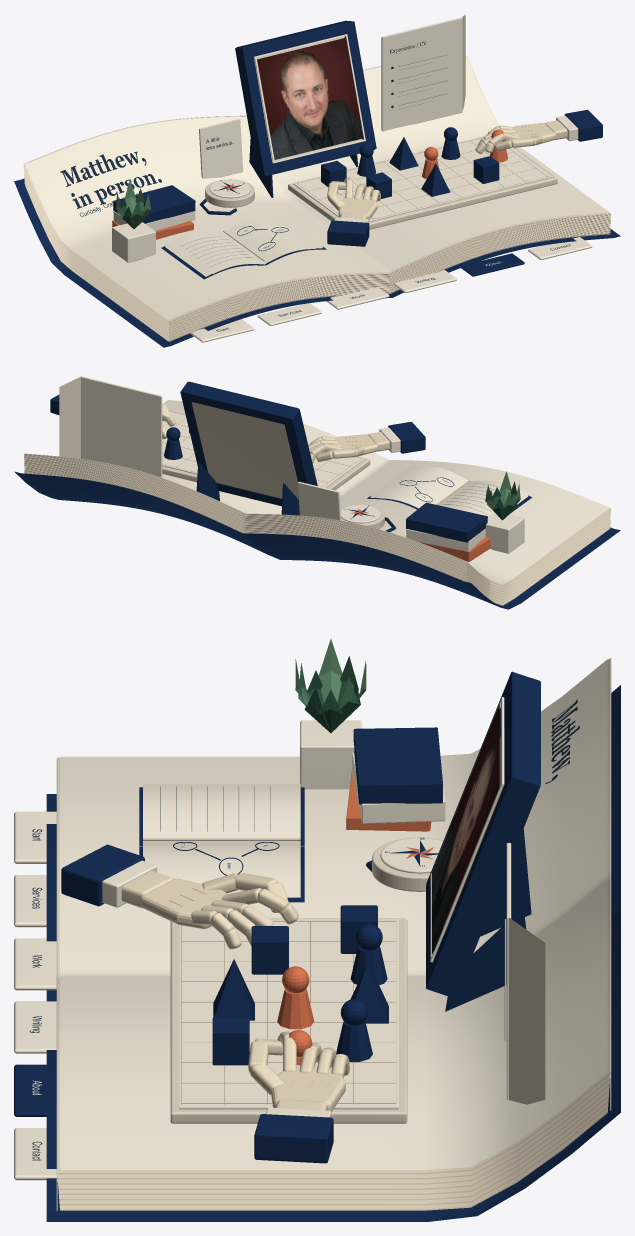
Rendered from about-geometry.glb.
3 views of the same model, one above another, from view 1: azimuth 30°, elevation 25°; view 2: azimuth 150°, elevation 25°; view 3: azimuth 270°, elevation 25° (orthographic). The views are drawn at different scales.
Visible parts, largest first — view 1: Reading spread, Matthew headshot photograph, CV standing page, Strategy board playing surface, Open notebook leaf 6, Cobalt lower cover, Strategy board, Less serious folded card, Portrait blue side, Paper leaf 29, Portrait blue top bottom.001, Folded plant pot (+53 smaller); view 2: Reading spread, Cobalt lower cover, Portrait backing, CV standing page, Open notebook leaf 6, Portrait blue top bottom.001, Strategy board playing surface, CV return fold, Stacked top board 2, Portrait blue side, Less serious folded card, Folded plant pot (+67 smaller); view 3: Reading spread, Strategy board playing surface, Open notebook leaf 6, Cobalt lower cover, Portrait blue side.001, CV return fold, Strategy board, Matthew headshot photograph, Stacked top board 2, Paper leaf 29, Portrait blue top bottom.001, Right paper hand cobalt sleeve (+59 smaller).
Part boxes in pixels (<box>): Reading spread: <box>25,57,609,319</box>; Matthew headshot photograph: <box>257,37,363,159</box>; CV standing page: <box>381,17,462,131</box>; Strategy board playing surface: <box>293,137,551,221</box>; Open notebook leaf 6: <box>165,216,322,274</box>; Cobalt lower cover: <box>14,178,620,347</box>; Strategy board: <box>288,136,557,229</box>; Less serious folded card: <box>199,119,243,178</box>; Portrait blue side: <box>235,47,273,175</box>; Paper leaf 29: <box>23,56,610,321</box>; Portrait blue top bottom.001: <box>236,20,352,57</box>; Folded plant pot: <box>112,222,155,262</box>; Reading spread: <box>26,400,609,584</box>; Cobalt lower cover: <box>14,471,620,609</box>; Portrait backing: <box>191,402,298,499</box>; CV standing page: <box>81,376,162,477</box>; Open notebook leaf 6: <box>371,465,527,517</box>; Portrait blue top bottom.001: <box>181,381,298,425</box>; Strategy board playing surface: <box>162,411,364,487</box>; CV return fold: <box>59,376,81,458</box>; Stacked top board 2: <box>406,502,487,533</box>; Portrait blue side: <box>283,408,317,485</box>; Less serious folded card: <box>298,481,340,520</box>; Folded plant pot: <box>485,512,524,553</box>; Reading spread: <box>60,659,607,1169</box>; Strategy board playing surface: <box>179,919,398,1109</box>; Open notebook leaf 6: <box>143,783,300,893</box>; Cobalt lower cover: <box>46,685,620,1221</box>; Portrait blue side.001: <box>426,769,540,998</box>; CV return fold: <box>509,917,545,1104</box>; Strategy board: <box>170,918,407,1123</box>; Matthew headshot photograph: <box>432,704,499,954</box>; Stacked top board 2: <box>353,727,442,787</box>; Paper leaf 29: <box>57,658,610,1172</box>; Portrait blue top bottom.001: <box>504,672,540,789</box>; Right paper hand cobalt sleeve: <box>254,1114,333,1163</box>.
Size of the model in its own units: 11.26 by 3.63 by 6.2.
Materials: 12 (1 with a texture image).
